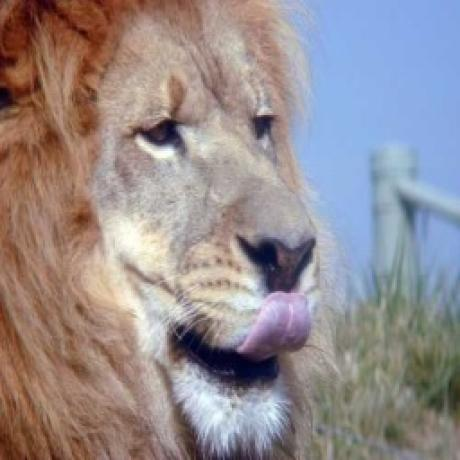Lion: (0, 0, 329, 460)
